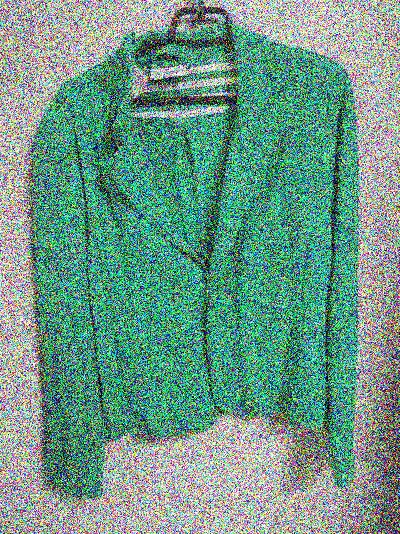Blazer: (32, 30, 378, 507)
